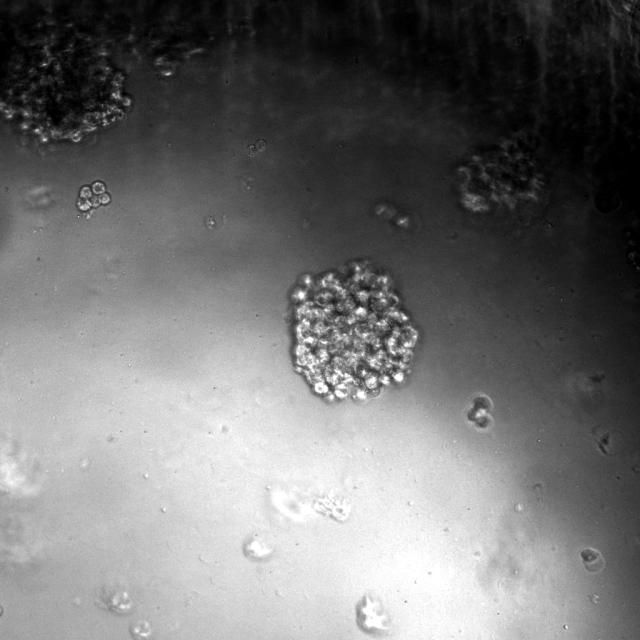organoid: (291, 261, 418, 399), (0, 14, 131, 143), (456, 135, 544, 225), (76, 180, 111, 217), (466, 394, 494, 432), (579, 548, 604, 572), (247, 139, 266, 157)
